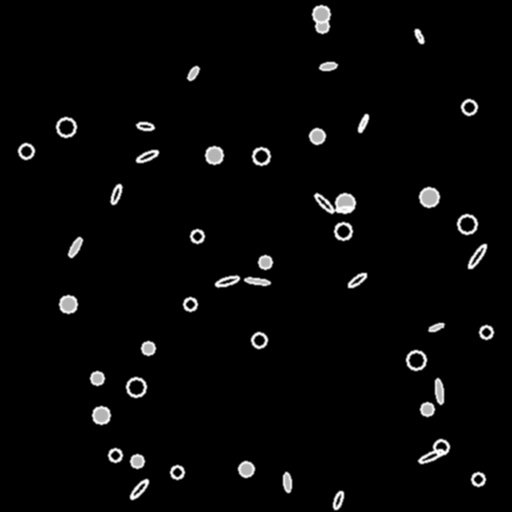pseudomonas: (467, 243, 487, 269), (417, 447, 445, 465), (313, 192, 335, 214), (129, 478, 149, 500), (135, 148, 159, 164), (347, 272, 367, 288), (67, 237, 83, 257), (109, 183, 123, 205), (215, 275, 239, 287), (434, 378, 444, 404), (332, 490, 344, 510), (357, 113, 369, 133), (186, 65, 200, 81), (244, 277, 270, 285), (413, 28, 425, 44), (428, 322, 444, 332), (320, 61, 336, 71), (335, 205, 353, 213), (283, 473, 291, 491), (136, 122, 154, 130)
synechocystis: (407, 351, 425, 369), (127, 378, 145, 396), (336, 194, 354, 212), (57, 118, 75, 136), (420, 188, 438, 206), (458, 215, 476, 233), (253, 148, 269, 164), (93, 407, 109, 423), (206, 147, 222, 163), (313, 6, 329, 22), (335, 223, 351, 239), (60, 296, 76, 312), (434, 440, 448, 454), (310, 129, 324, 143), (252, 333, 266, 347), (239, 462, 253, 476), (462, 100, 476, 114), (19, 144, 33, 158), (421, 403, 433, 415), (480, 326, 492, 338), (171, 466, 183, 478), (191, 230, 203, 242), (109, 449, 121, 461), (259, 256, 271, 268), (91, 372, 103, 384), (316, 20, 328, 32), (142, 342, 154, 354), (131, 455, 143, 467), (184, 298, 196, 310), (472, 473, 484, 485)
